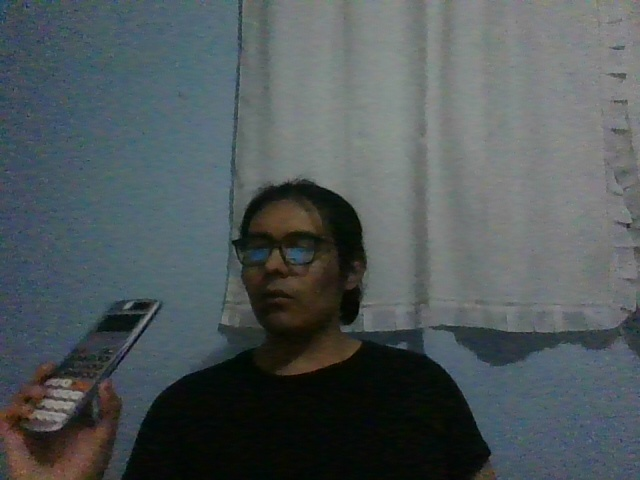calculadora: (20, 298, 161, 434)
